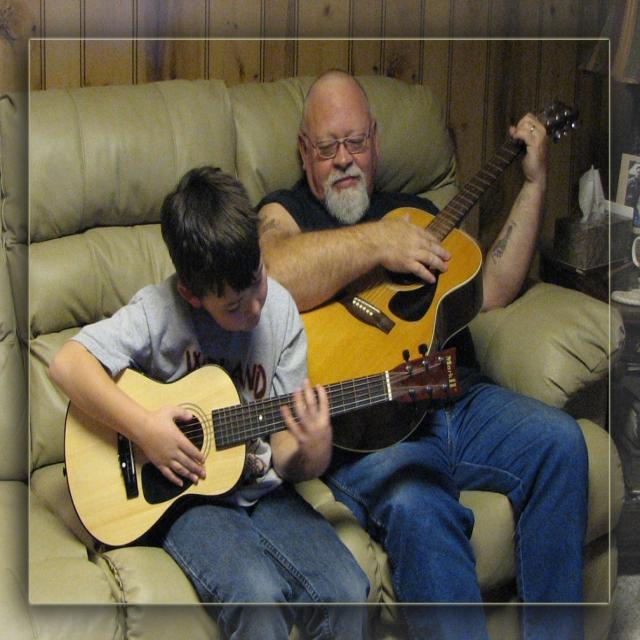guitar: (299, 102, 579, 452), (64, 345, 462, 552)
